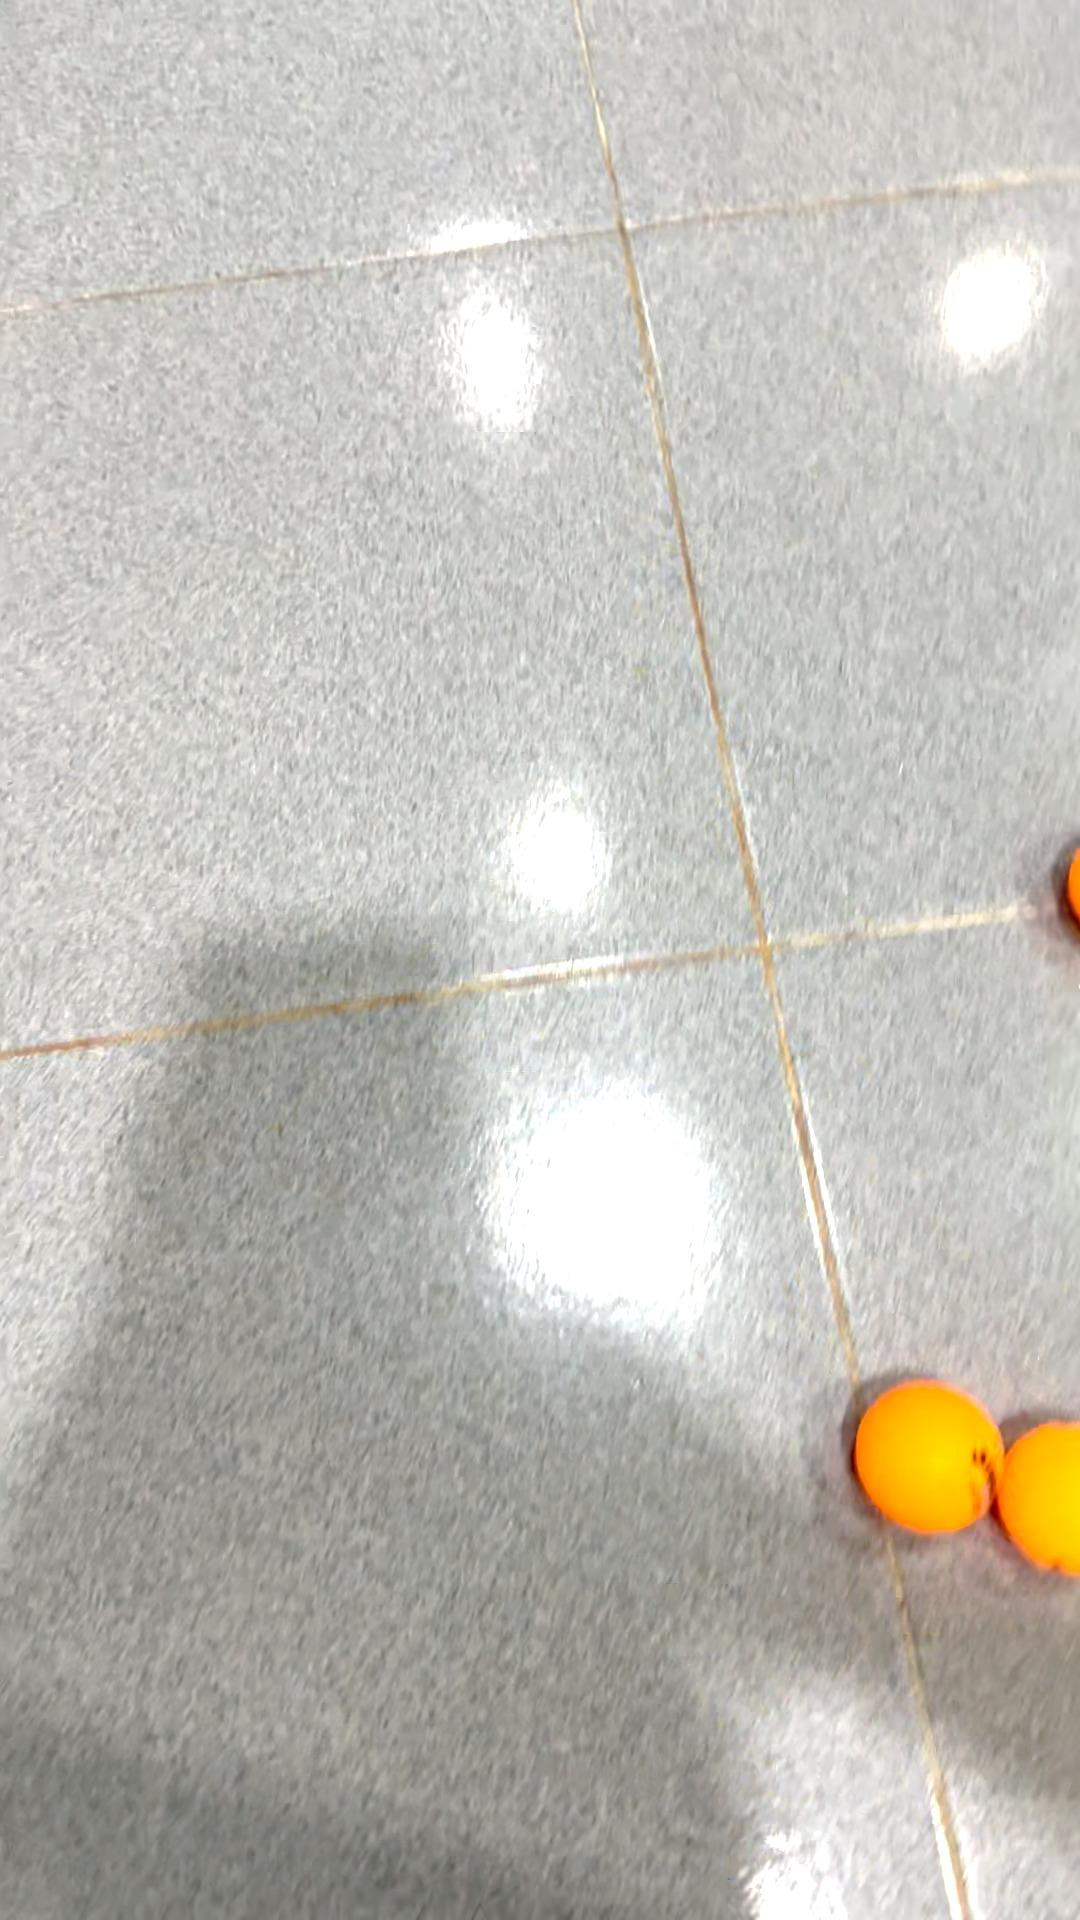oball: (851, 1371, 1009, 1555), (1004, 1412, 1080, 1592)
